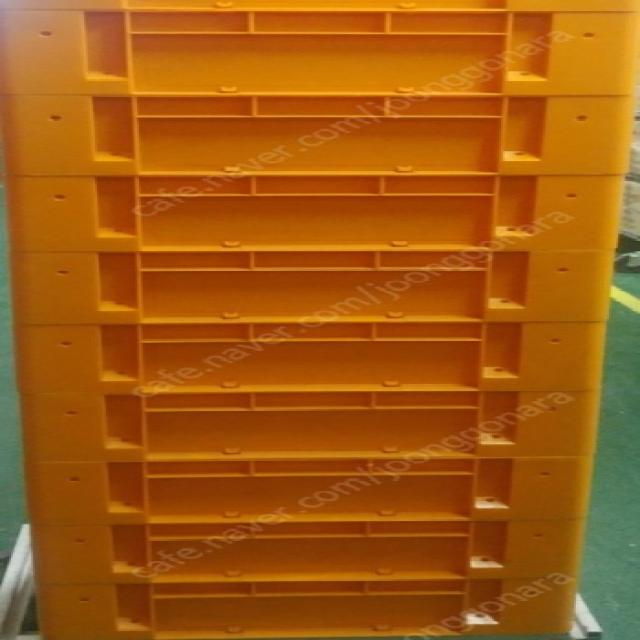basket: (2, 0, 638, 640)
